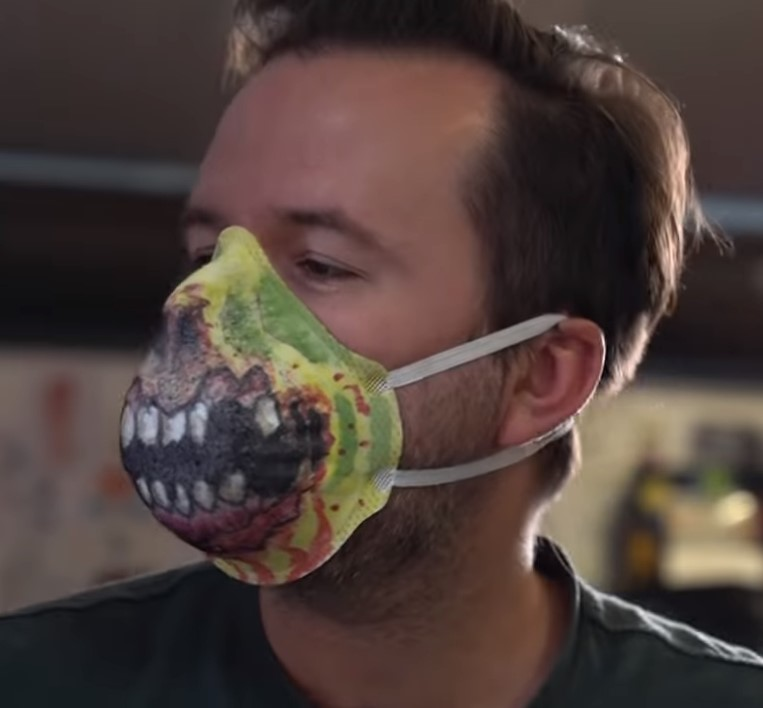face_with_mask: (120, 25, 636, 600)
